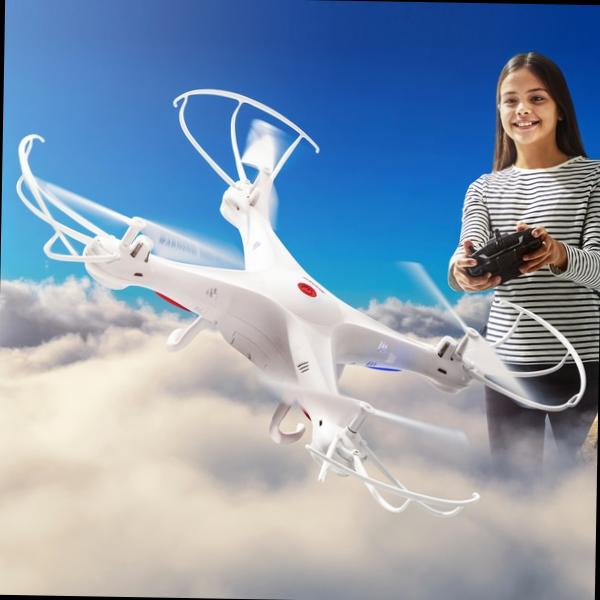drone: (5, 77, 592, 522)
